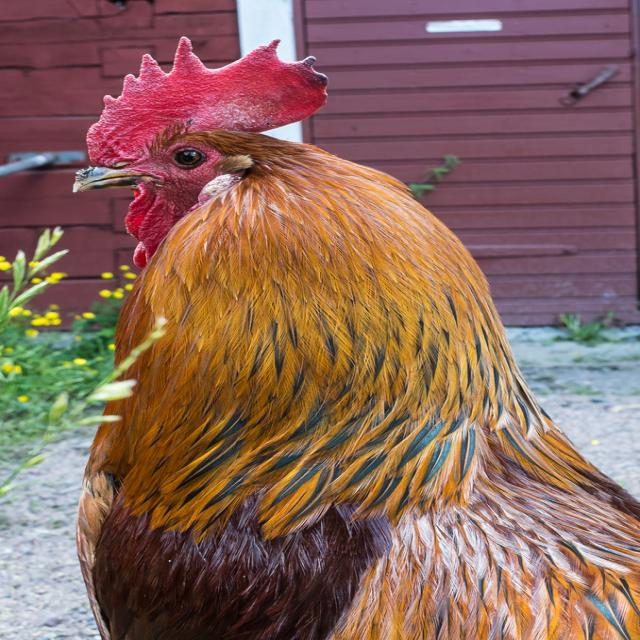Chicken: (68, 34, 640, 640)
